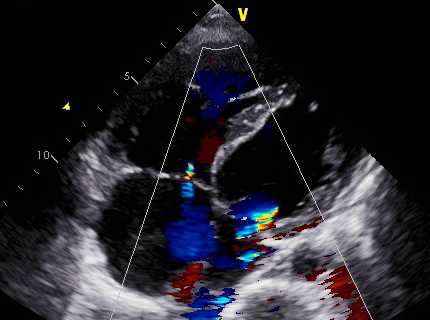MR: (221, 195, 291, 257)
